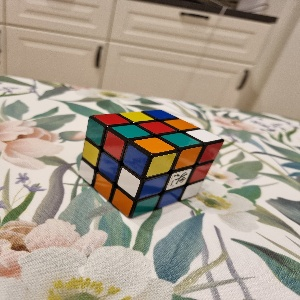cube: (79, 109, 226, 219)
